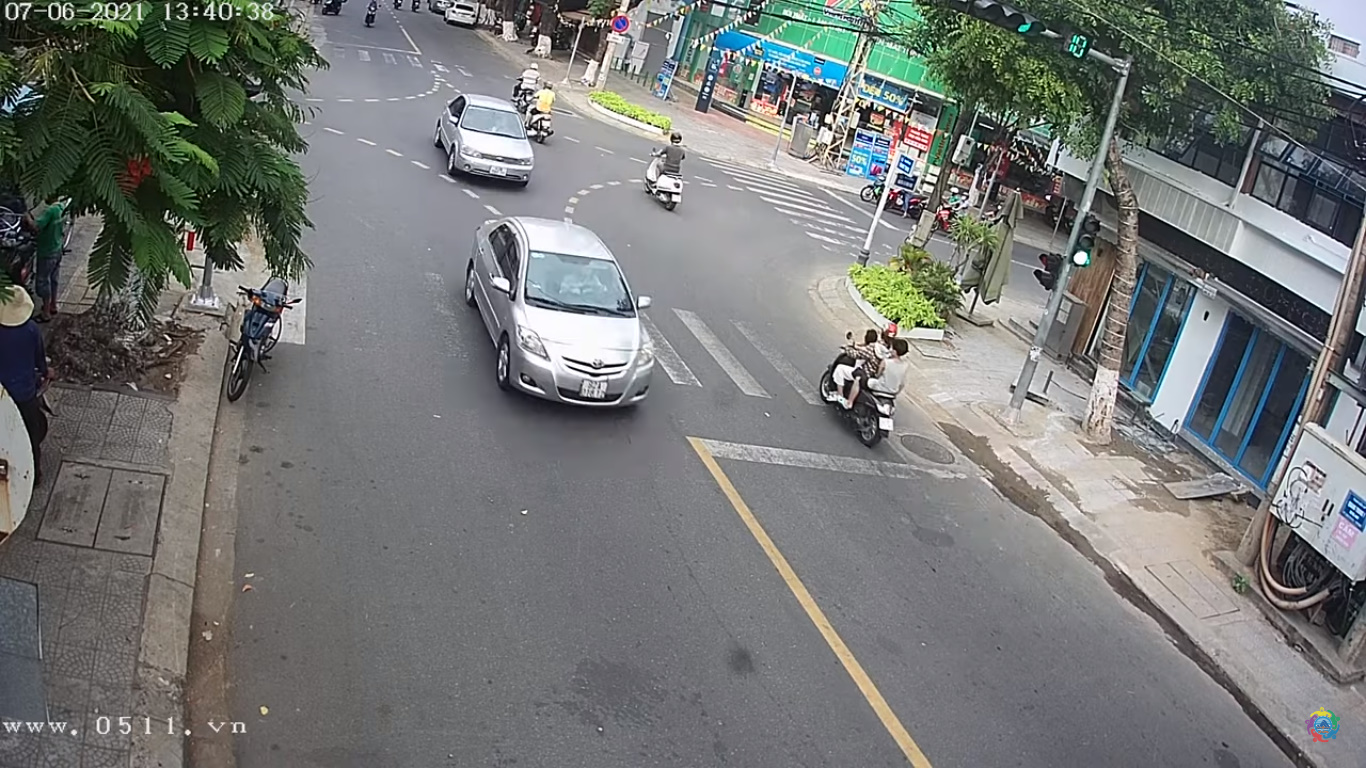car: (467, 210, 664, 416), (429, 89, 542, 194)
